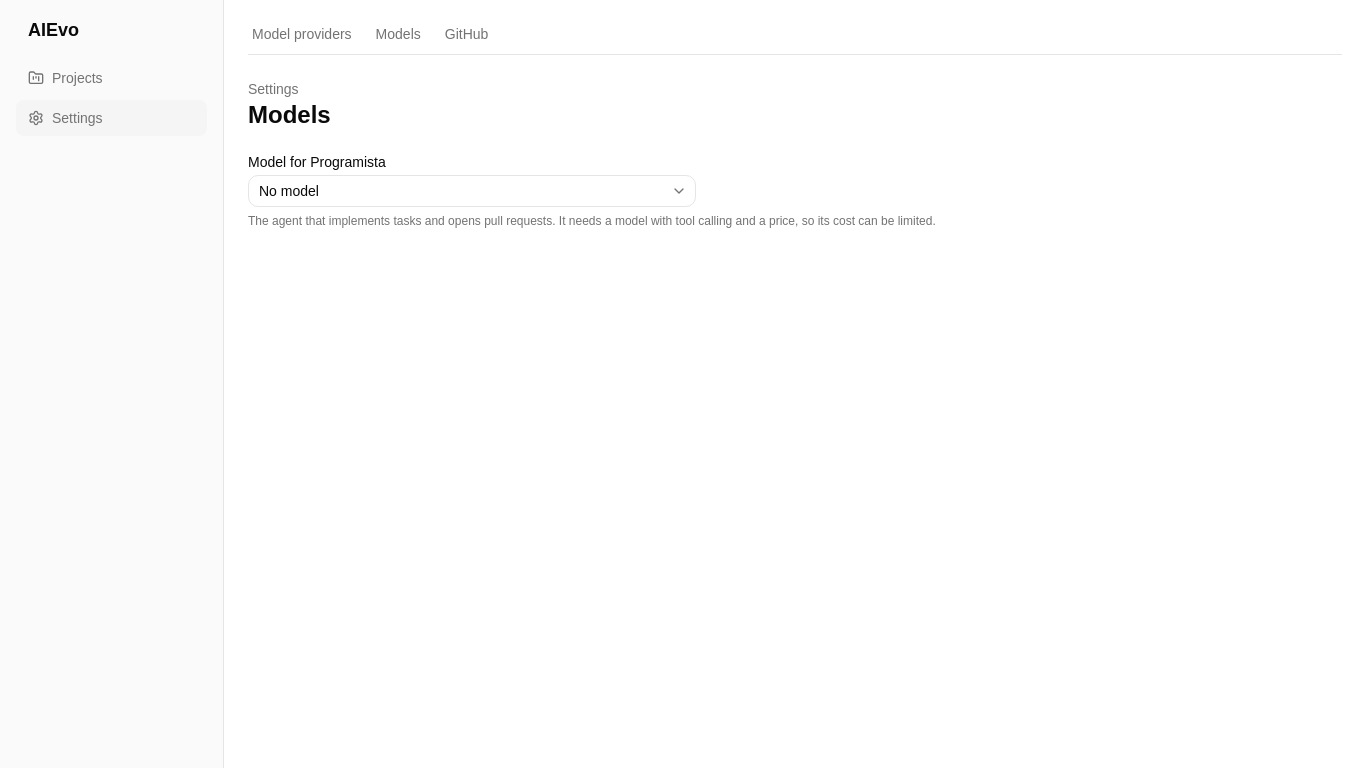
Test: AgentModelsPage › shows why the API refused a model
The width and height of the screenshot is (1366, 768).
Click the dropdown named "Model for Programista" at (289, 191), box left=248, top=175, right=696, bottom=207
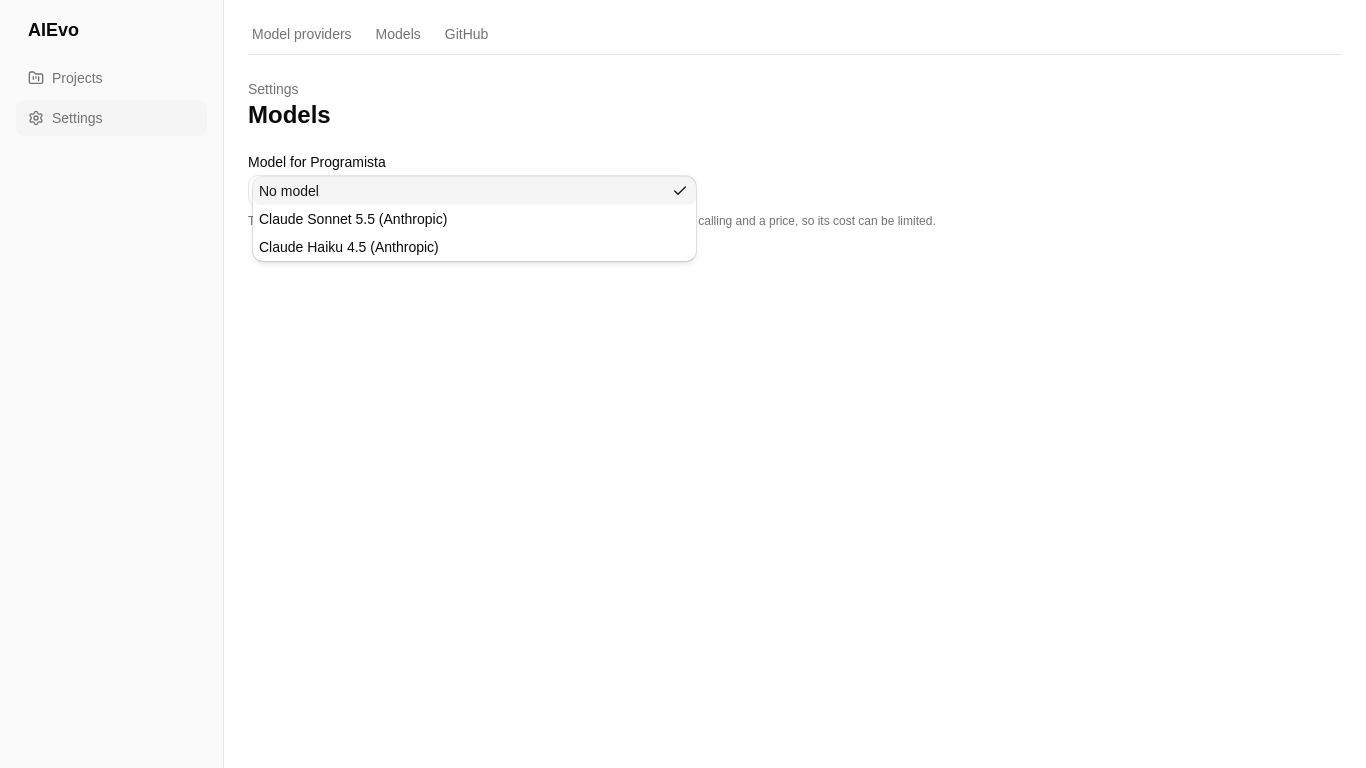
Click the option "Claude Sonnet 5.5 (Anthropic)" at (353, 219), box left=259, top=211, right=447, bottom=227
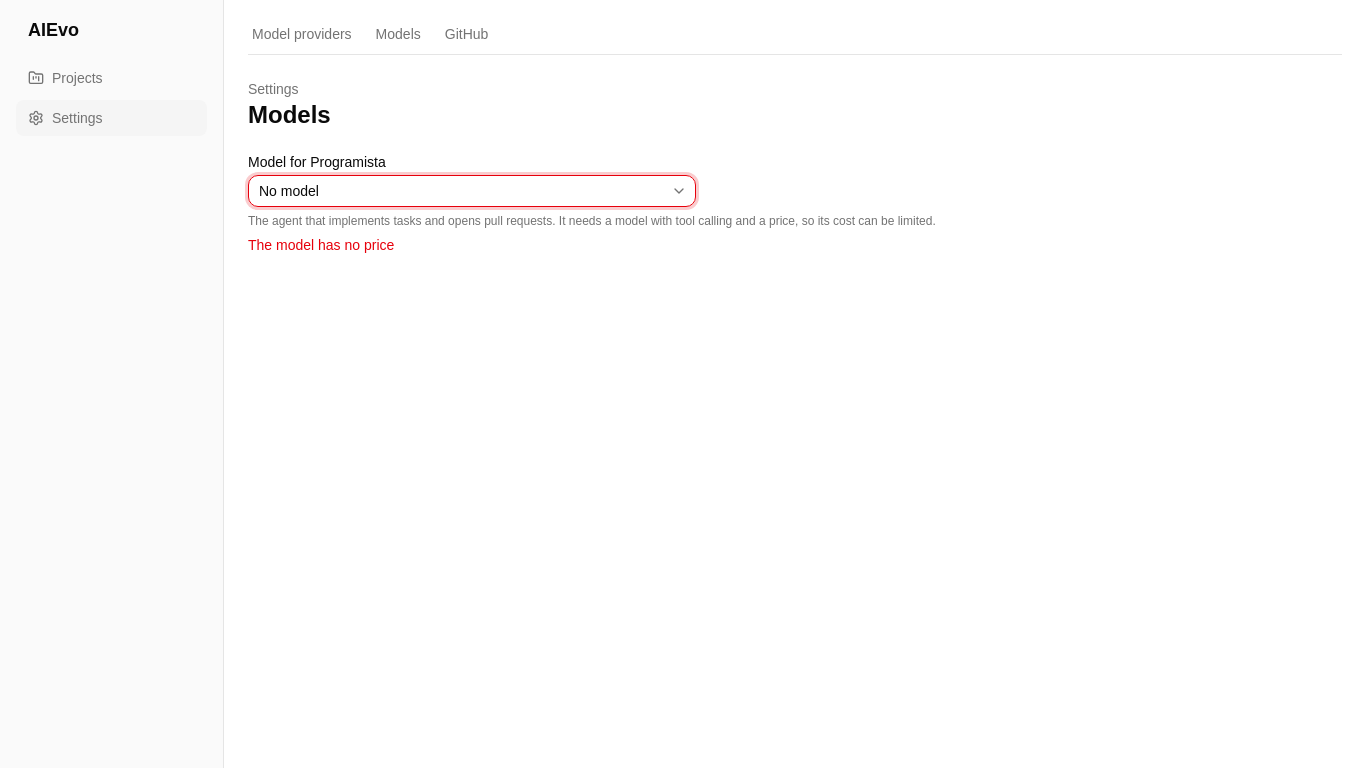
Check: the dropdown named "Model for Programista" reads "No model", box left=248, top=175, right=696, bottom=207
Check: the text "The model has no price" is shown, box left=248, top=237, right=394, bottom=253
